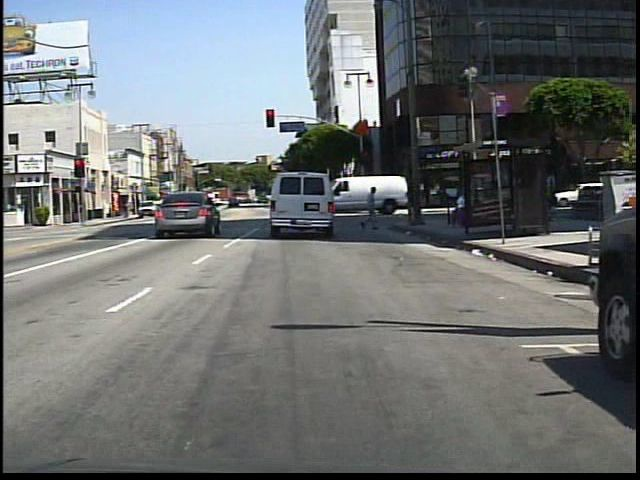person: (359, 183, 383, 234), (164, 192, 179, 218)
